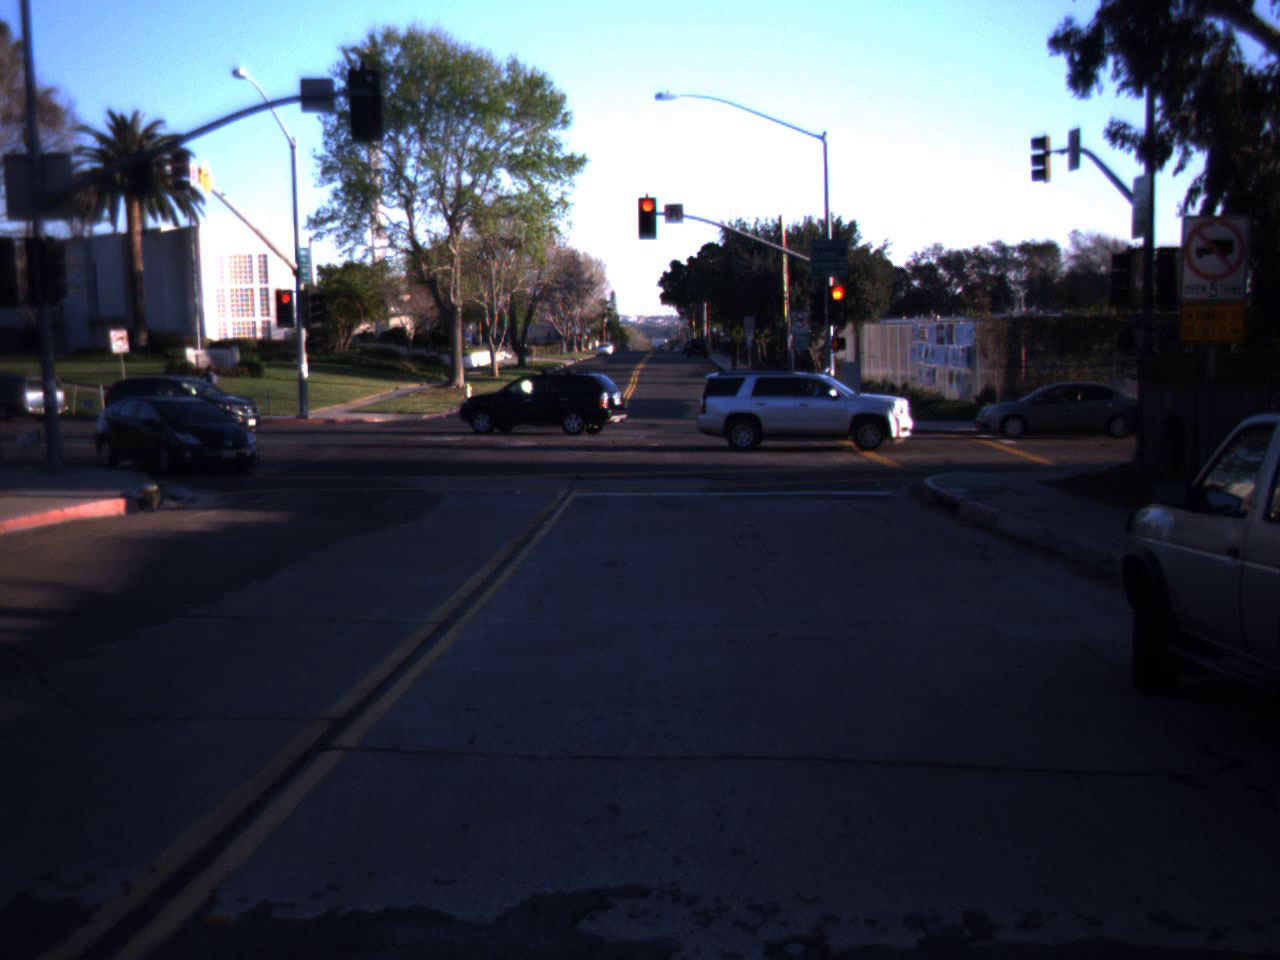stop: (823, 281, 853, 335), (633, 194, 663, 243), (278, 291, 296, 322)
